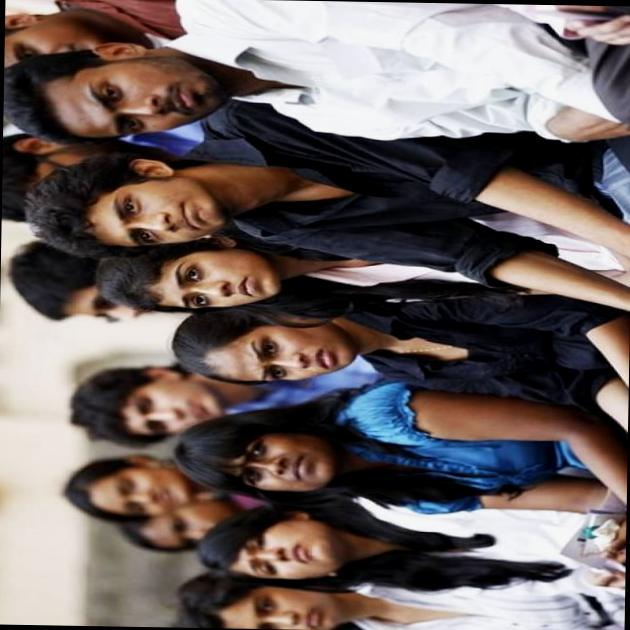there is a person: (173, 263, 630, 396), (24, 0, 369, 145), (197, 388, 475, 500), (218, 500, 459, 592)
there is a person sitting: (67, 115, 630, 266)
